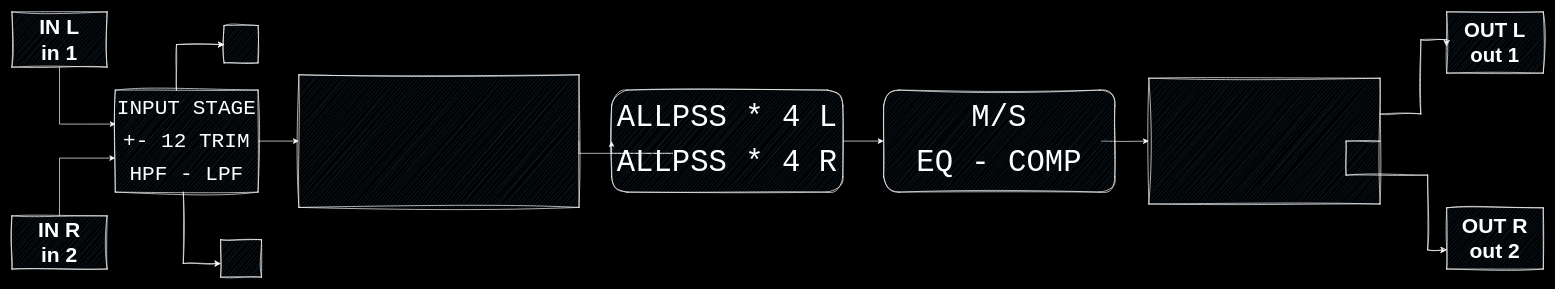
This 1555x289 diagram has some shape labels left out. Each missing label, with the centre of its shape:
LPCF * 8 - L LPCF * 8 - R freeze: [438,140]
OUT 4 METER: [240,44]
OUT 5 METER: [240,258]
OUTPUT STAGE MAKEUP PRE D/W DRY/WET - BYPASS: [1264,141]
